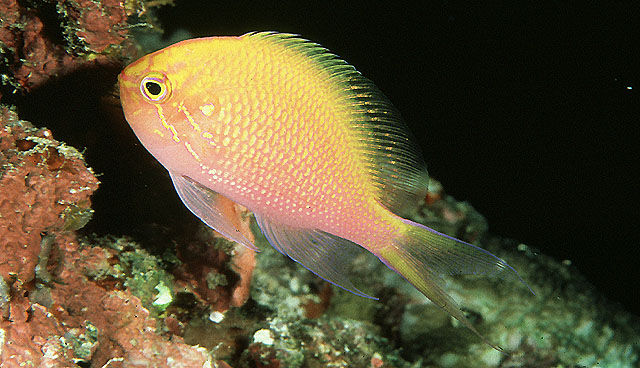fish: (117, 31, 535, 356)
